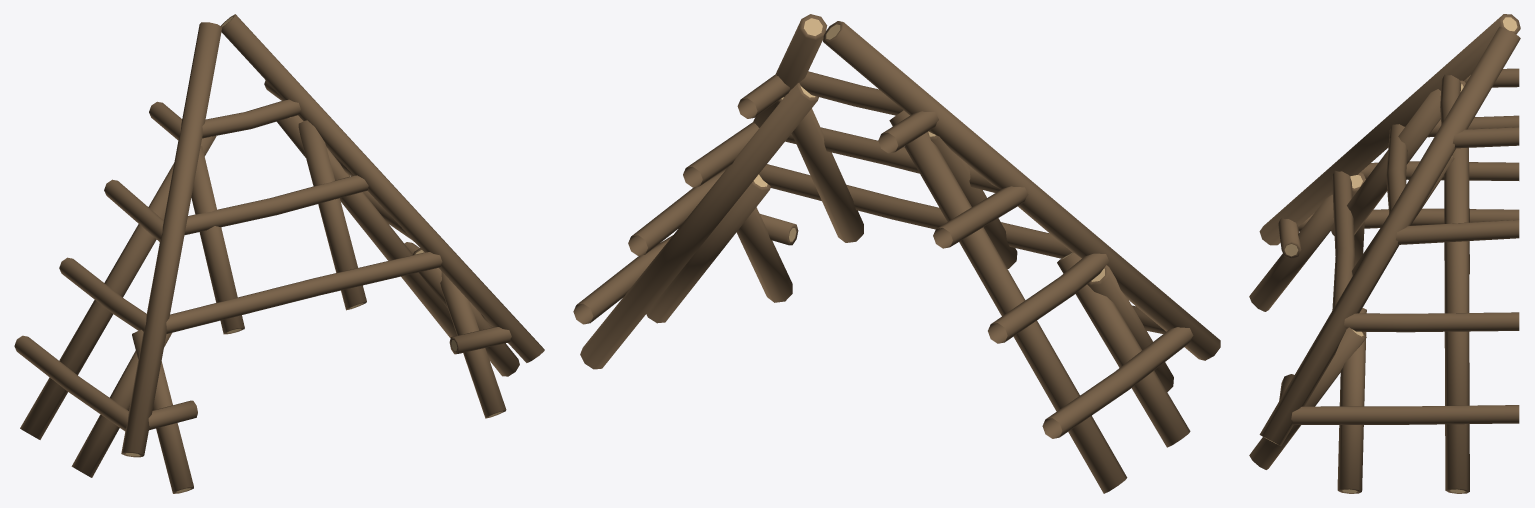
The model's file is rpgpp_ag_roof_support_01_6x5x3_roof_02_end_03.fbx.
The picture shows the model from 3 angles, left to right: view 1: azimuth 30°, elevation 25°; view 2: azimuth 150°, elevation 25°; view 3: azimuth 270°, elevation 25°; orthographic projection. The views are drawn at different scales.
Parts seen in each view (by area): view 1: rpgpp_ag_roof_support_01_6x5x3_roof_02_end_03; view 2: rpgpp_ag_roof_support_01_6x5x3_roof_02_end_03; view 3: rpgpp_ag_roof_support_01_6x5x3_roof_02_end_03.
Part boxes in pixels (x1,y1,x2,y2): rpgpp_ag_roof_support_01_6x5x3_roof_02_end_03: [14, 14, 544, 493]; rpgpp_ag_roof_support_01_6x5x3_roof_02_end_03: [573, 14, 1220, 493]; rpgpp_ag_roof_support_01_6x5x3_roof_02_end_03: [1249, 14, 1520, 493].
Bounding box in the file's own units: 6.94 × 5.28 × 3.53.
